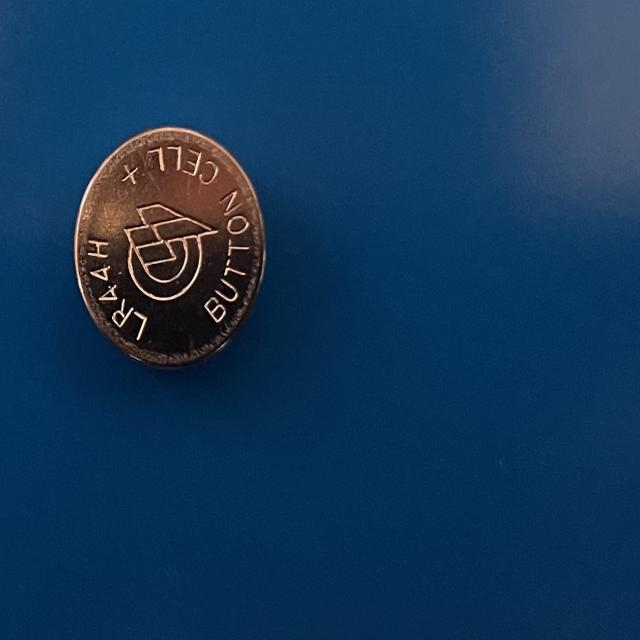COIN: (72, 128, 266, 366)
